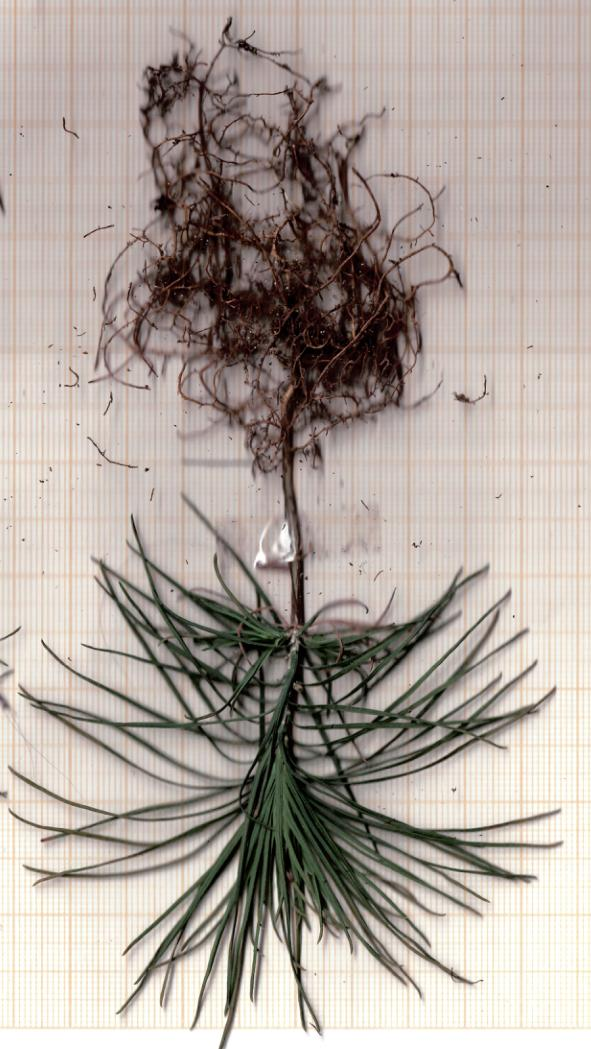flower: (17, 573, 572, 1029)
root: (91, 14, 466, 457)
stem: (270, 450, 322, 618)
